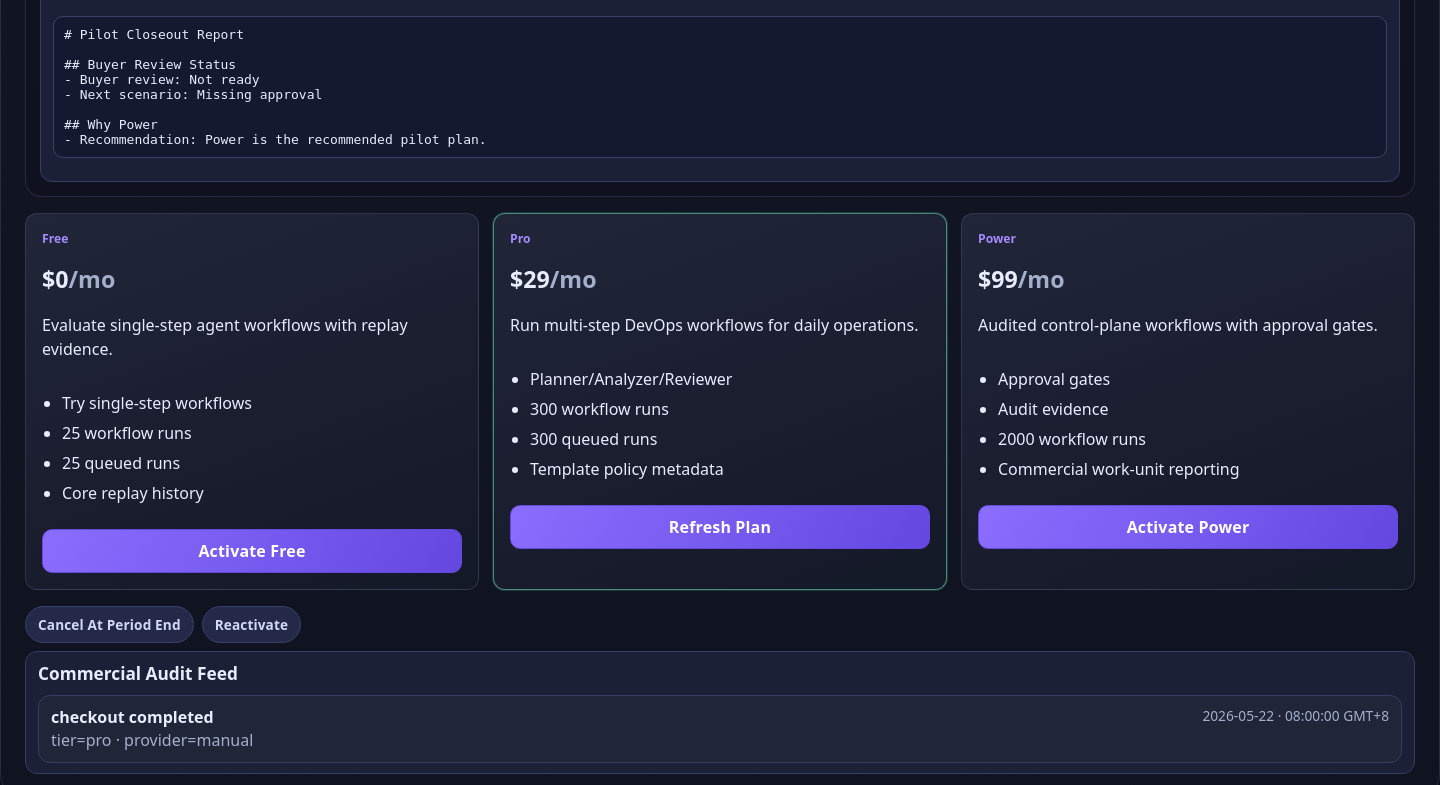
it: monetization flow › activates a manual plan and renders usage plus audit feed
(page scrolled)
Check: the heading "Commercial Audit Feed" is shown, box [38,662,238,684]
Click the button "Activate Power" at (1188, 526), box [978,504,1398,548]
(page scrolled)
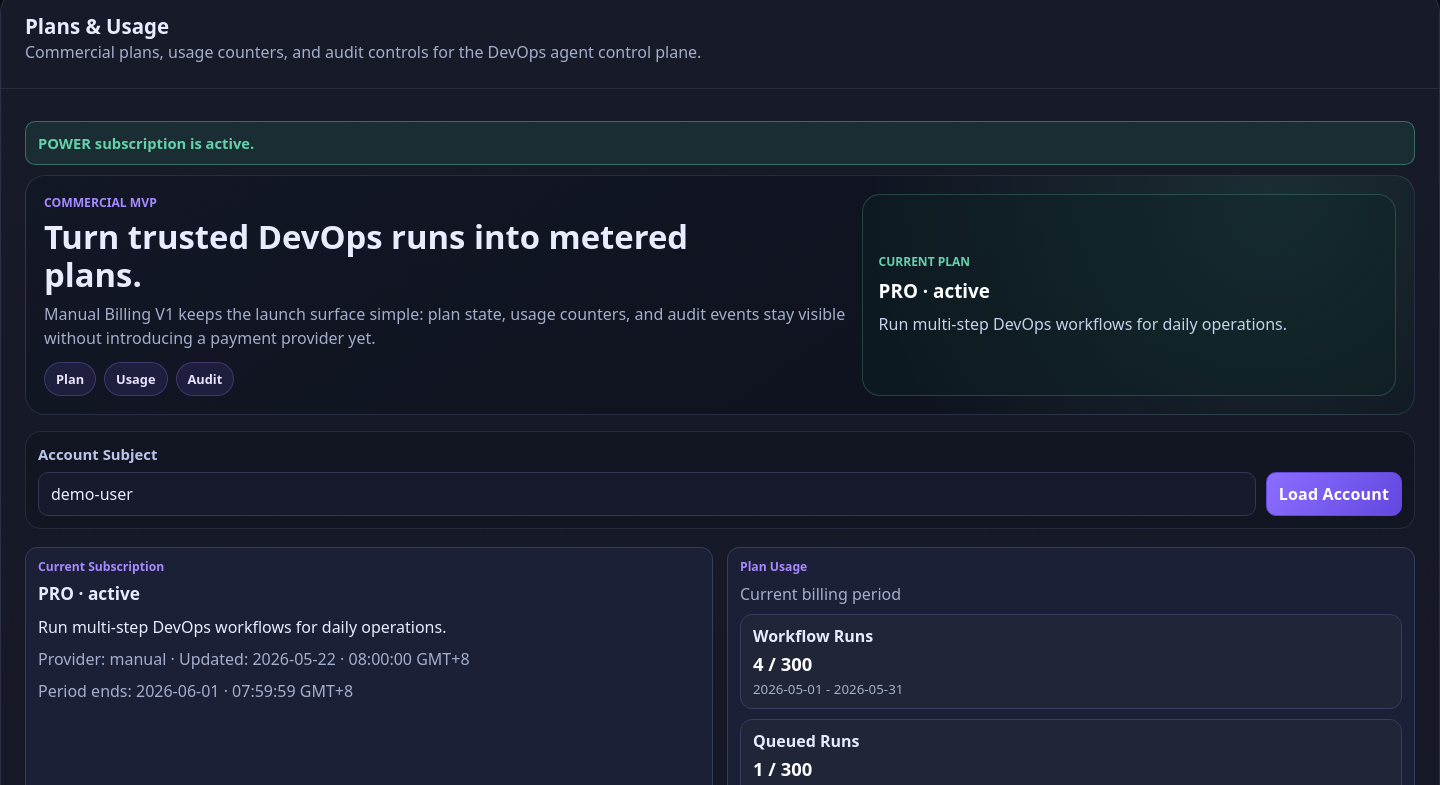
Check: the text "POWER subscription is active." is shown, box [25,121,1415,165]
